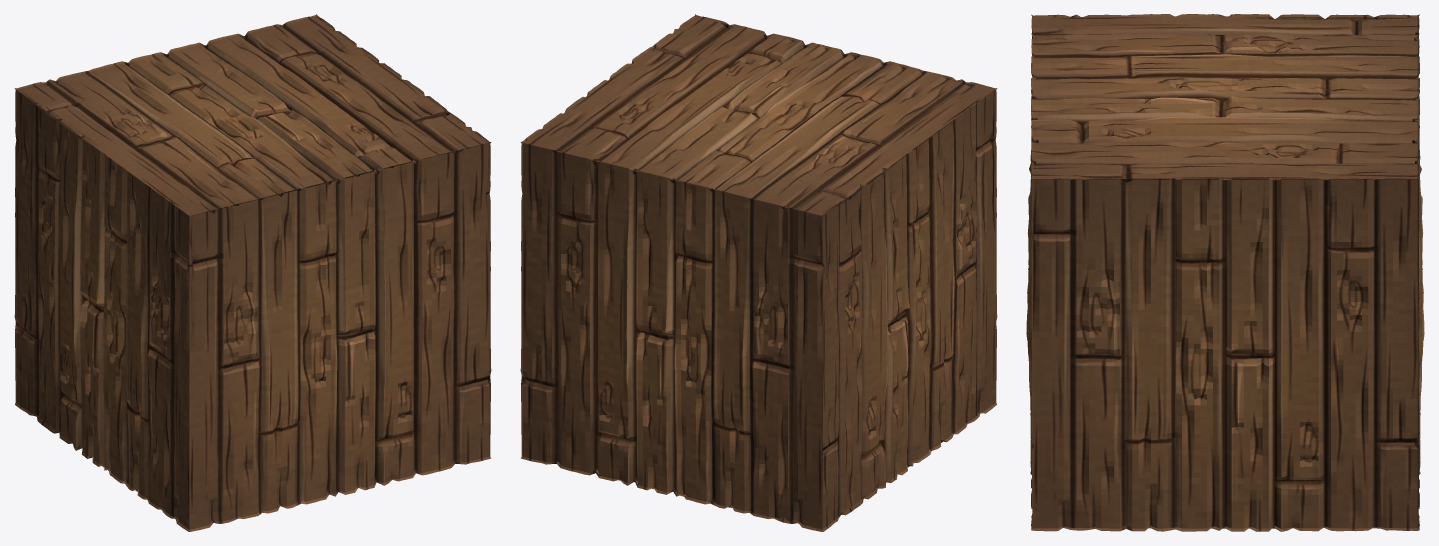
Rendered from deski.obj.
3 views of the same model, side by side, from view 1: azimuth 30°, elevation 25°; view 2: azimuth 150°, elevation 25°; view 3: azimuth 270°, elevation 25° (orthographic). The views are drawn at different scales.
Visible parts, largest first — view 1: Sześcian; view 2: Sześcian; view 3: Sześcian.
Part boxes in pixels (x1,y1,x2,y2): Sześcian: (14,14,491,531); Sześcian: (520,14,997,531); Sześcian: (1026,14,1424,531).
Bounding box in the file's own units: 2.01 × 2.01 × 2.01.
Materials: 1 (1 with a texture image).
